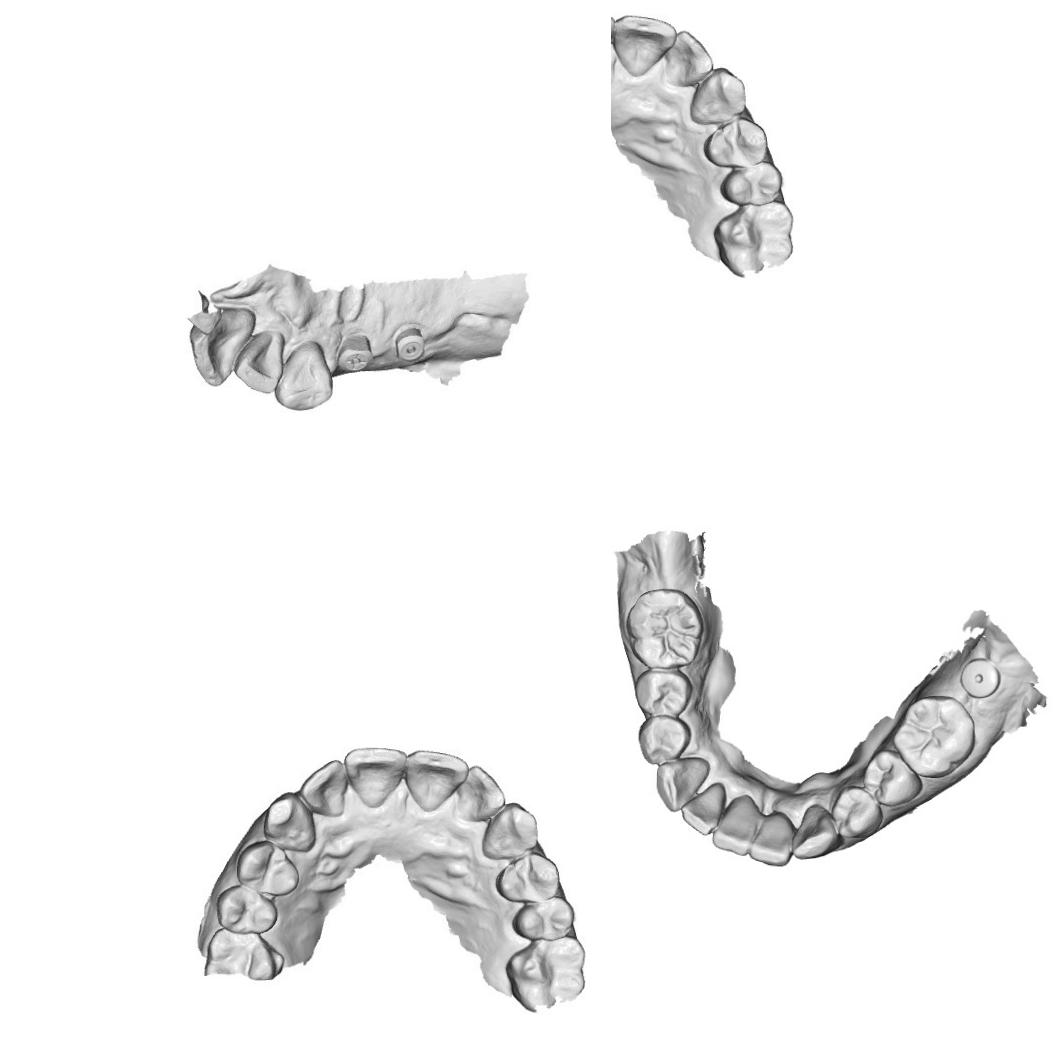canine: (274, 344, 330, 418), (260, 790, 319, 854), (688, 65, 748, 127), (480, 800, 540, 862), (654, 755, 712, 813), (789, 803, 842, 861)
implant: (957, 656, 1001, 699), (394, 325, 428, 360)
implant_plus: (334, 331, 374, 372)
incisor: (184, 308, 252, 386), (611, 13, 680, 78), (403, 748, 472, 813), (343, 745, 407, 810), (296, 758, 350, 819), (662, 28, 715, 88), (454, 763, 507, 823), (710, 792, 758, 858), (679, 779, 728, 837), (747, 809, 795, 868), (238, 329, 282, 388)
molar: (890, 693, 977, 780), (624, 585, 706, 670), (712, 201, 796, 278), (503, 936, 587, 1012)
premolar: (234, 838, 302, 898), (493, 849, 563, 906), (701, 115, 771, 170), (859, 750, 924, 808), (214, 884, 280, 936), (510, 894, 577, 944), (718, 160, 785, 208), (636, 714, 692, 768), (829, 786, 885, 840), (632, 670, 694, 718)
